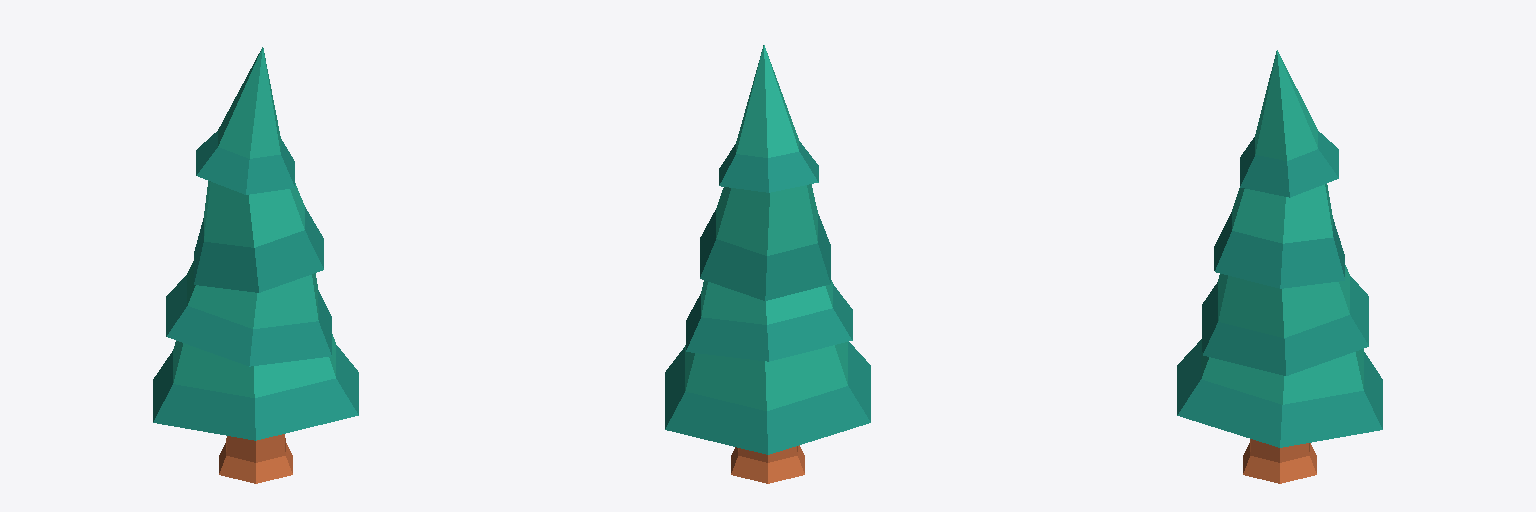
The model's file is pineCrooked.obj.
3 views of the same model, side by side, from view 1: azimuth 30°, elevation 25°; view 2: azimuth 150°, elevation 25°; view 3: azimuth 270°, elevation 25° (orthographic).
Parts seen in each view (by area): view 1: pineCrooked; view 2: pineCrooked; view 3: pineCrooked.
Boxes of the visible parts, box(x1,y1,x2,y2) form: pineCrooked: box(153, 47, 358, 483); pineCrooked: box(665, 45, 870, 483); pineCrooked: box(1177, 50, 1382, 483).
Size of the model in its own units: 1.18 by 2.29 by 1.02.